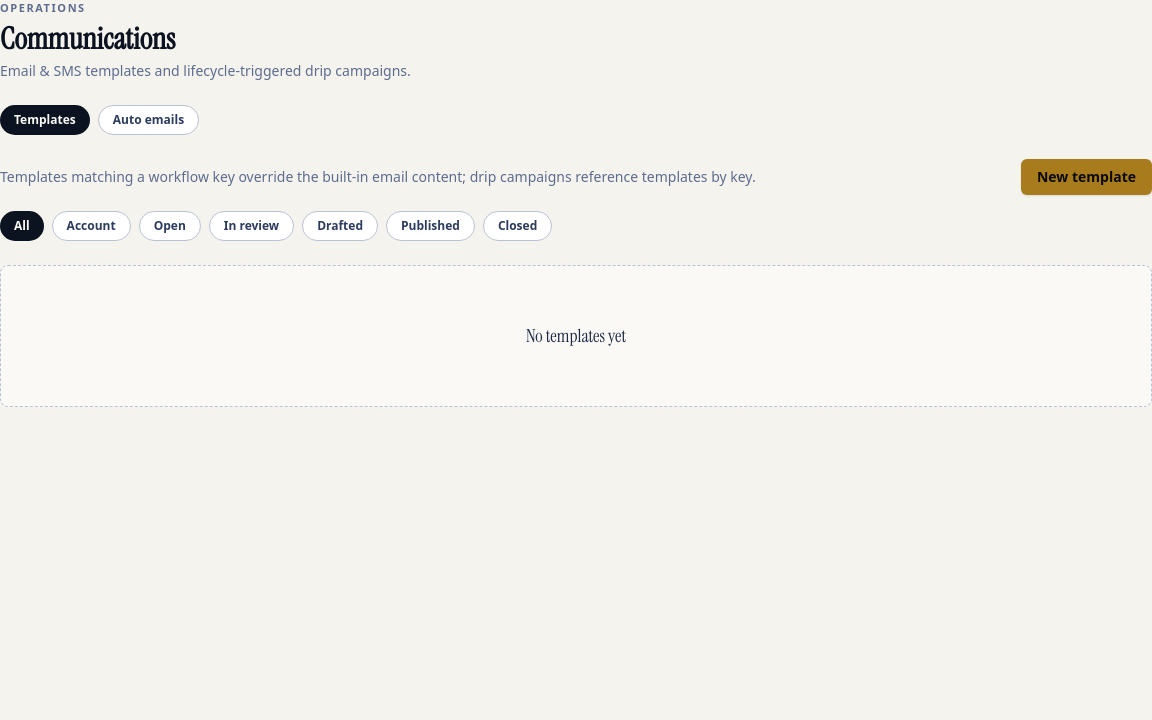
auto-email campaign conditions › selects the condition a campaign already carries when editing it
The image size is (1152, 720).
Click the button "Auto emails": x=148, y=120 [98,104,199,134]
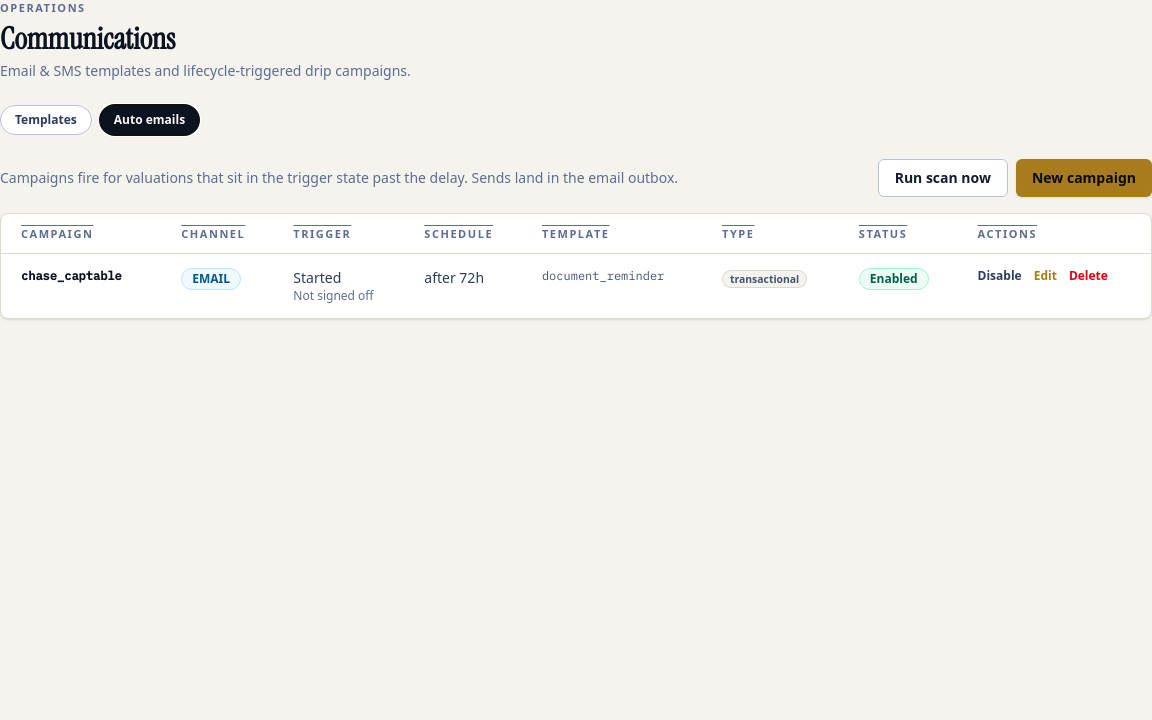
Click the button "Edit": x=1045, y=276 [1034,268,1057,284]
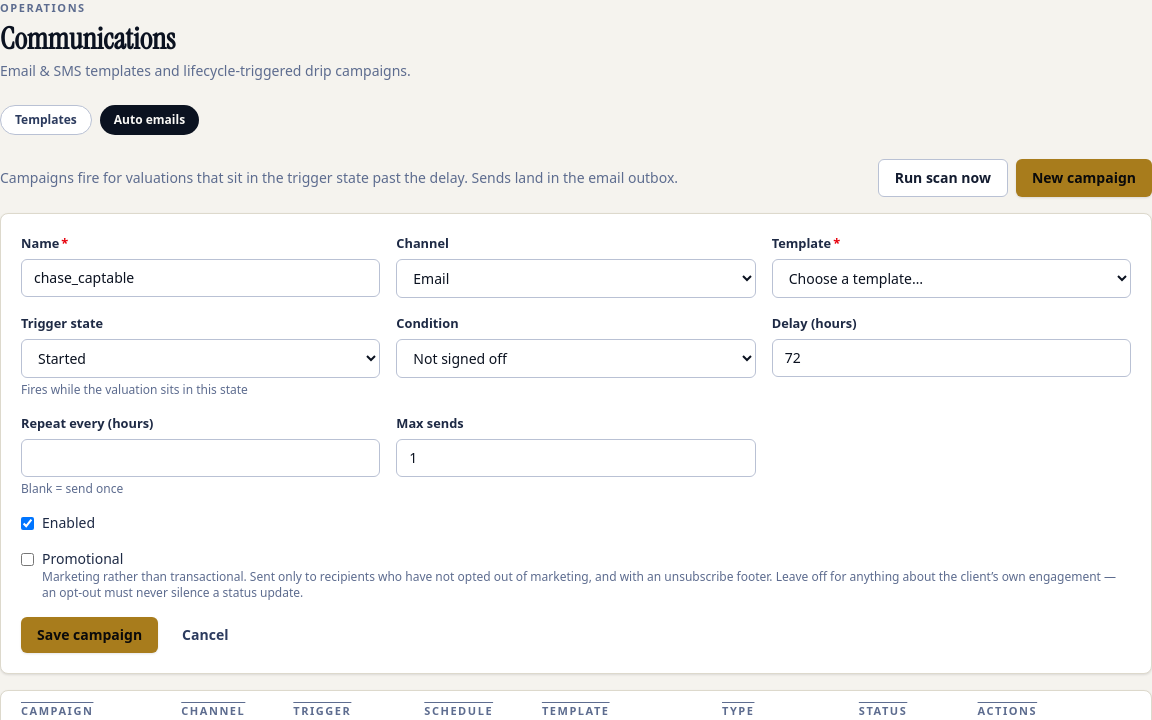
Expected: the dropdown labelled "Condition" shows "Not signed off", [396,339,756,378]
